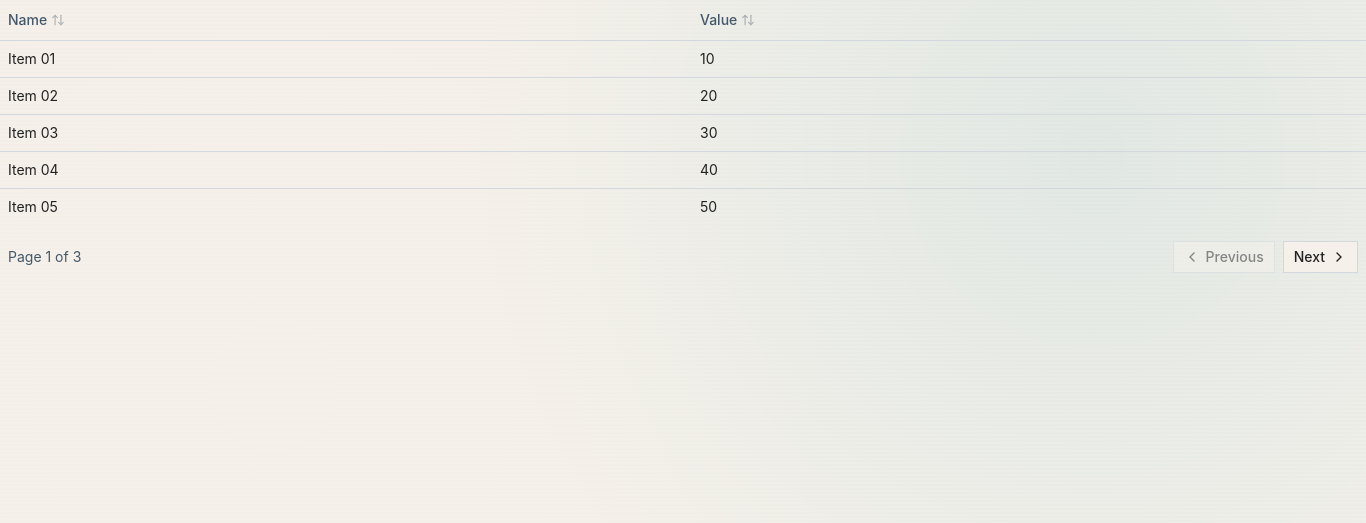
Scenario: DataTable - pagination › navigates to previous page
Click the button "Next": point(1320, 256) [1283, 240, 1358, 272]
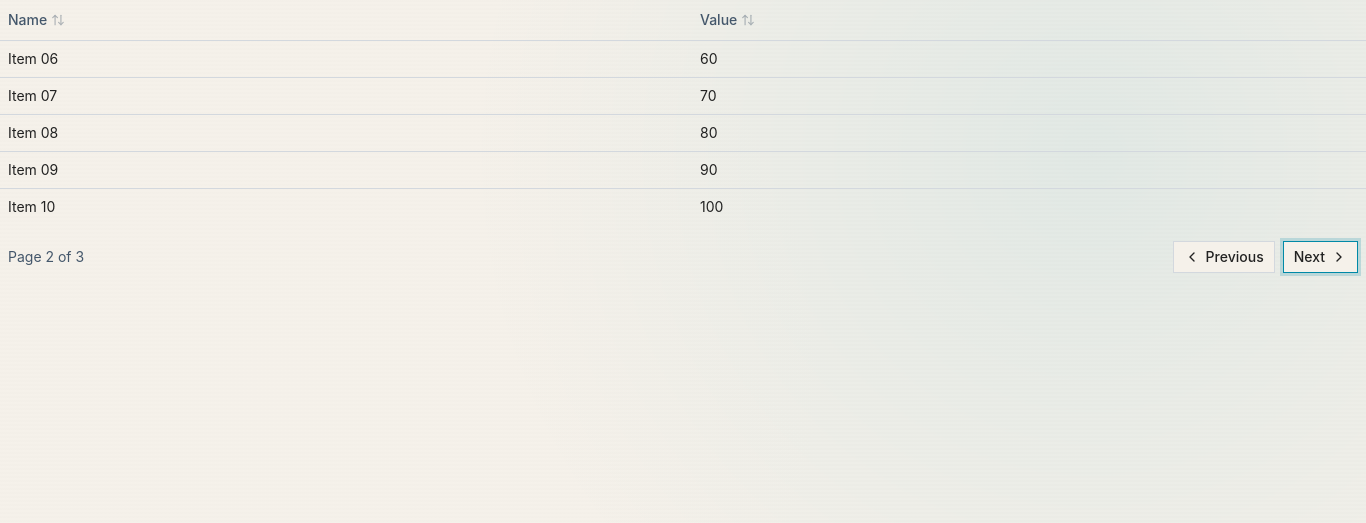
Click the button "Previous": point(1224, 256) [1173, 240, 1275, 272]
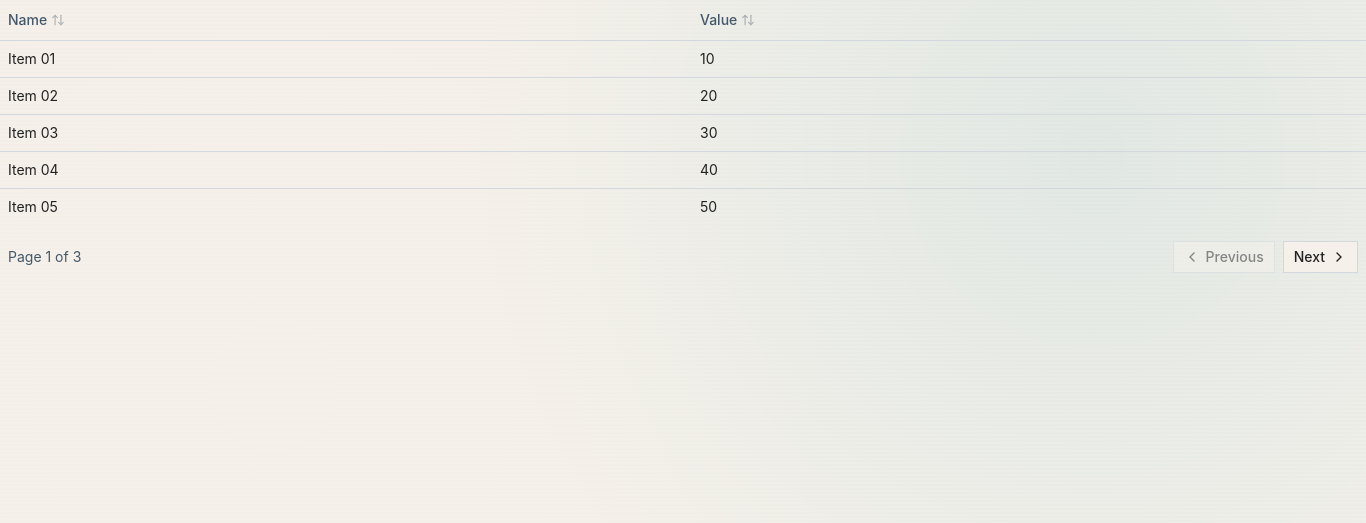
expect the text "Page 1 of 3" is shown: met, box [8, 246, 81, 266]
expect the text "Item 01" is shown: met, box [0, 40, 692, 77]
